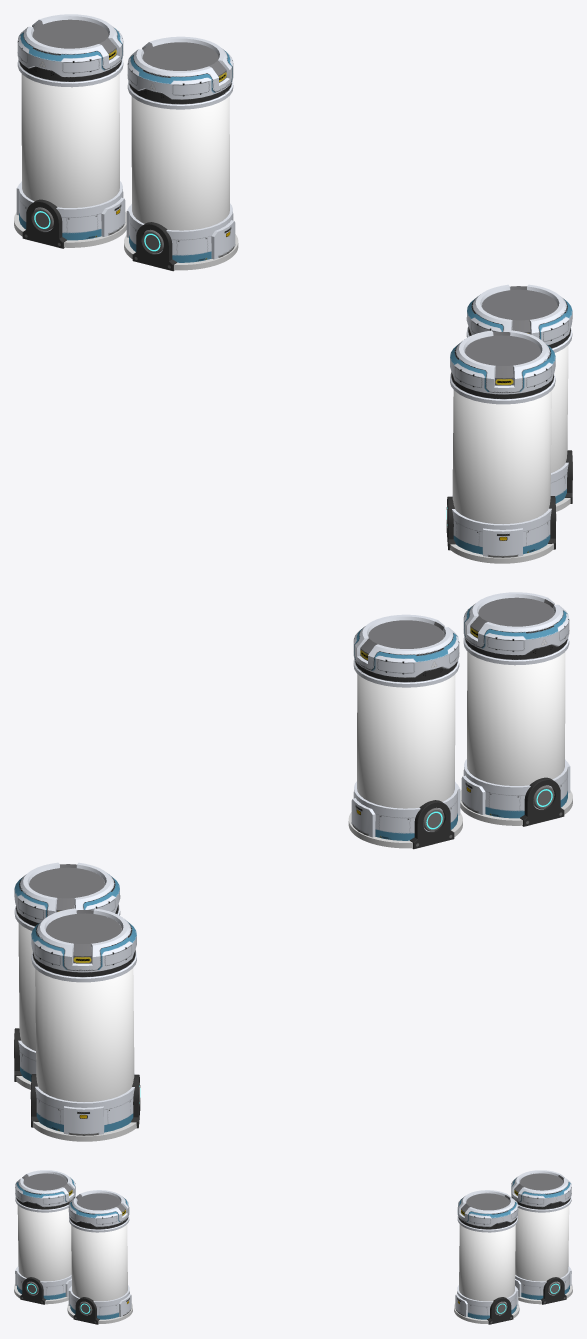
The model's file is Battery0521.fbx.
3 renders of one model, top to bottom at view 1: azimuth 30°, elevation 25°; view 2: azimuth 150°, elevation 25°; view 3: azimuth 270°, elevation 25°, orthographic. The views are drawn at different scales.
Visible parts, largest first — view 1: Battery0405; view 2: Battery0405; view 3: Battery0405.
Boxes of the visible parts, box(x1,y1,x2,y2) form: Battery0405: box(14, 14, 572, 563); Battery0405: box(14, 592, 572, 1141); Battery0405: box(14, 1170, 572, 1324).
Bounding box in the file's own units: 2401 × 2732 × 12287.
